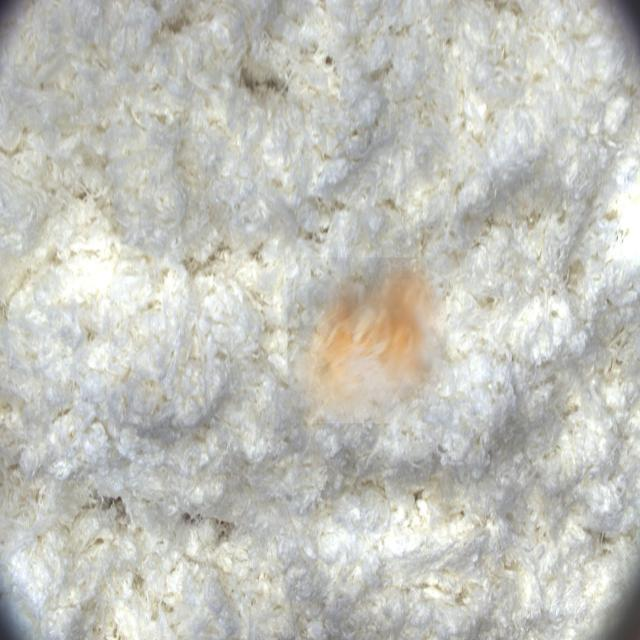dust: (288, 258, 447, 424)
